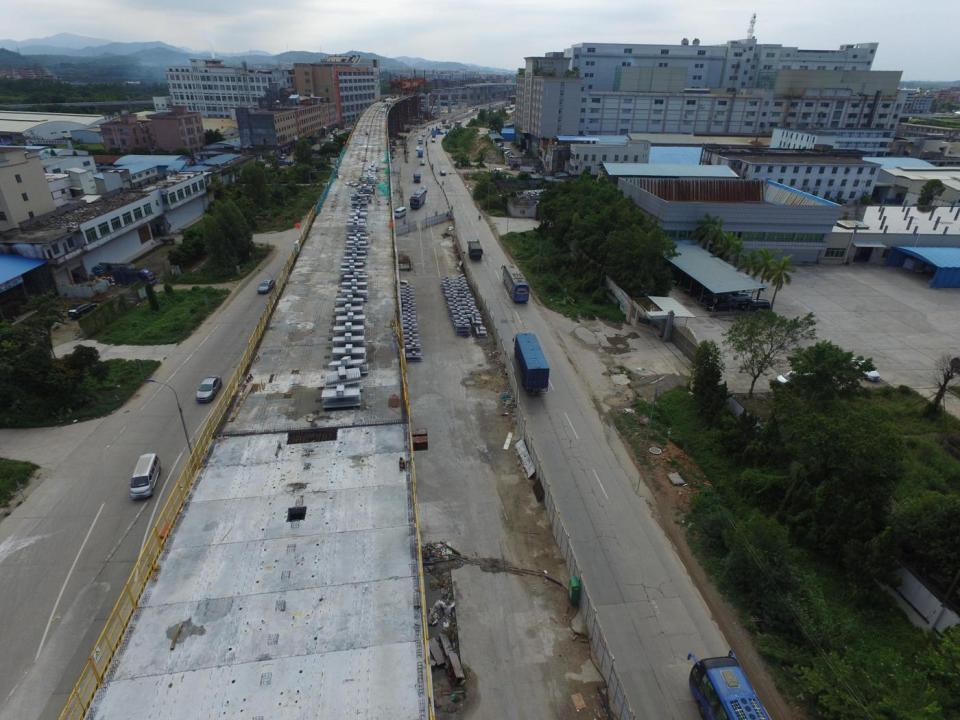bus: (685, 653, 764, 720), (502, 265, 528, 302), (410, 189, 424, 209), (413, 174, 420, 182), (455, 121, 461, 127)
car: (849, 357, 879, 382), (776, 371, 820, 387), (198, 373, 219, 400), (70, 302, 94, 319), (740, 298, 770, 310), (706, 301, 736, 313), (684, 283, 710, 296), (698, 292, 722, 304), (257, 278, 276, 293), (730, 291, 750, 300), (421, 186, 427, 192), (504, 150, 512, 154), (440, 170, 445, 176), (420, 160, 424, 164), (432, 139, 436, 142), (422, 133, 426, 136), (499, 144, 504, 146), (416, 146, 418, 150)
truck: (512, 332, 550, 393), (107, 268, 154, 285), (468, 240, 483, 260), (277, 159, 294, 165), (417, 149, 423, 158), (418, 136, 423, 144)
van: (131, 452, 158, 497), (394, 207, 405, 218), (502, 148, 510, 152), (280, 154, 286, 159)
